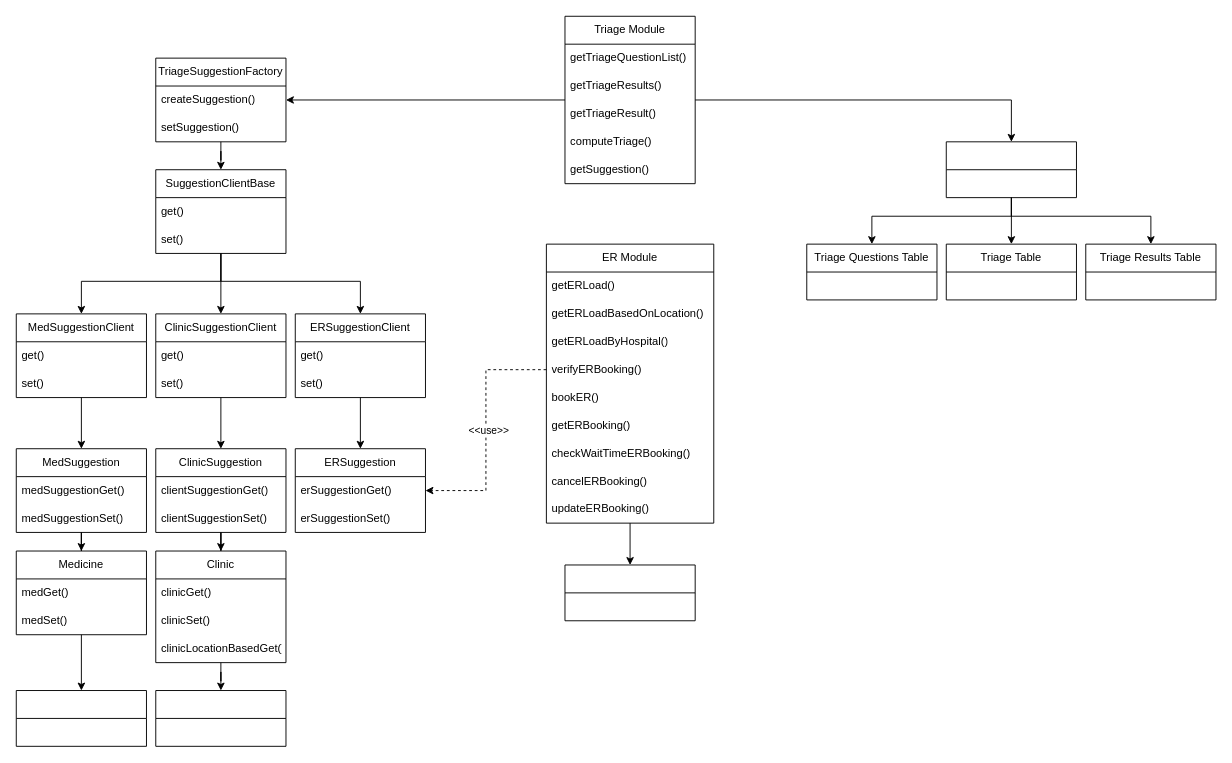
The diagram is 1232 pixels wide and 763 high, and some of its shapes have lost their labels. The centre of each missing label's shape, as x and y in pixels:
Clinic Database: the point at 220,718
ER Hospital Database: the point at 629,592
Medicine Database: the point at 80,718
Triage Database: the point at 1010,169
